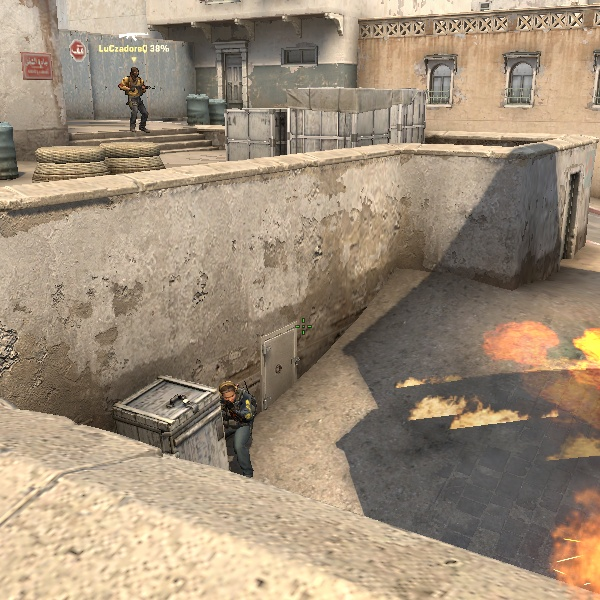ct_body: (216, 380, 258, 478)
ct_head: (219, 380, 238, 404)
t_body: (117, 66, 153, 131)
t_head: (129, 65, 140, 81)
